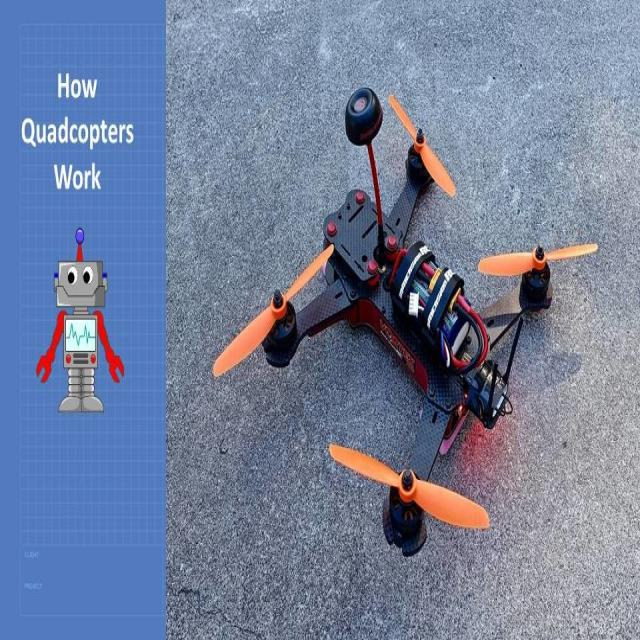drone: (185, 84, 615, 540)
